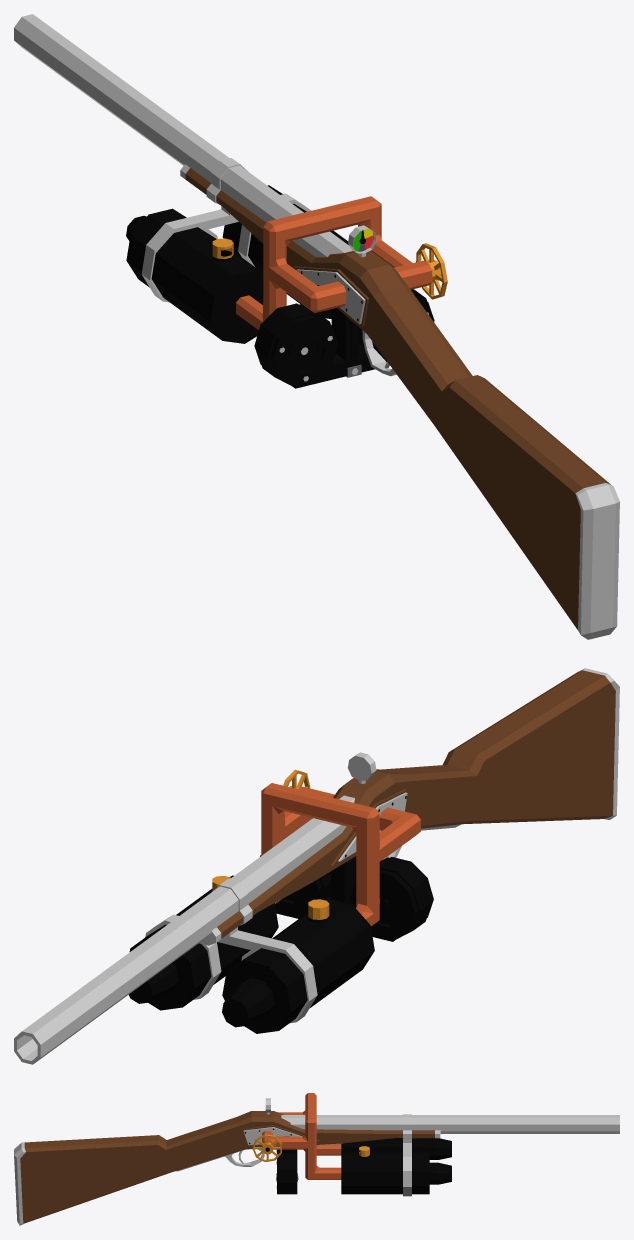
Rendered from Shotgun.fbx.
3 views of the same model, one above another, from view 1: azimuth 30°, elevation 25°; view 2: azimuth 150°, elevation 25°; view 3: azimuth 270°, elevation 25° (orthographic). The views are drawn at different scales.
Visible parts, largest first — view 1: Shotgun, Drum Magazine; view 2: Shotgun, Drum Magazine; view 3: Shotgun, Drum Magazine.
Boxes of the visible parts, bbox=[...] form: Shotgun: bbox=[14, 14, 619, 639]; Drum Magazine: bbox=[254, 289, 434, 388]; Shotgun: bbox=[14, 668, 619, 1064]; Drum Magazine: bbox=[260, 855, 433, 941]; Shotgun: bbox=[14, 1093, 619, 1225]; Drum Magazine: bbox=[276, 1149, 298, 1194].
Bounding box in the file's own units: 83.38 × 112 × 496.
